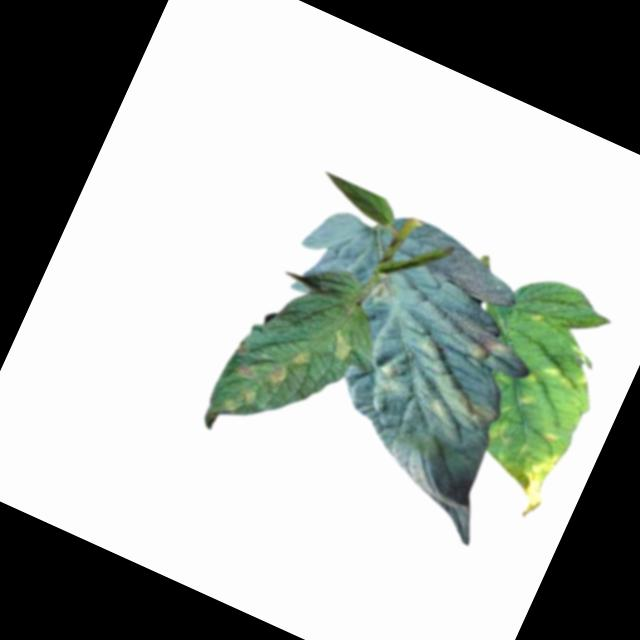Leaf_Mold: (393, 337, 515, 444), (486, 433, 568, 525), (436, 307, 517, 372), (525, 353, 594, 410), (265, 341, 315, 398), (366, 355, 408, 402), (322, 326, 362, 369), (366, 271, 406, 310)
